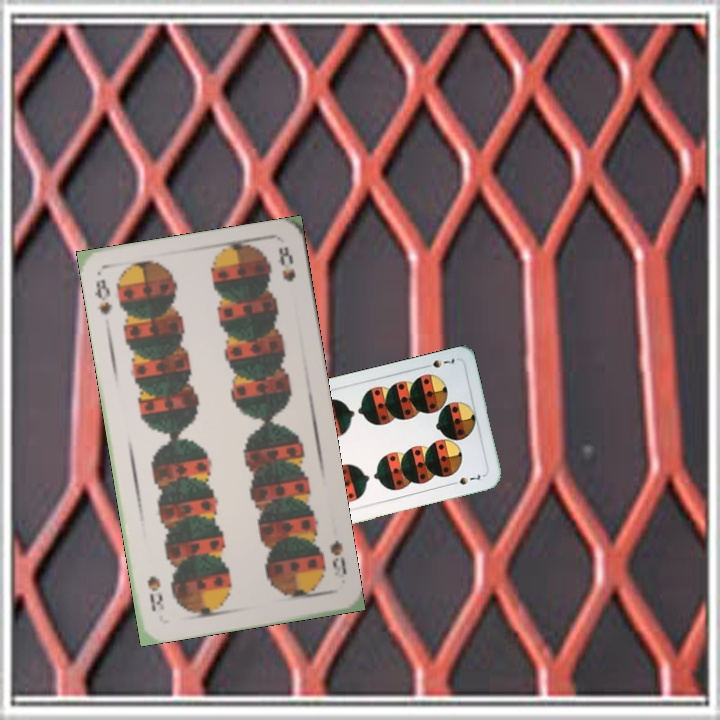S7: (419, 353, 457, 371)
S8: (326, 536, 349, 581), (91, 275, 114, 318)
